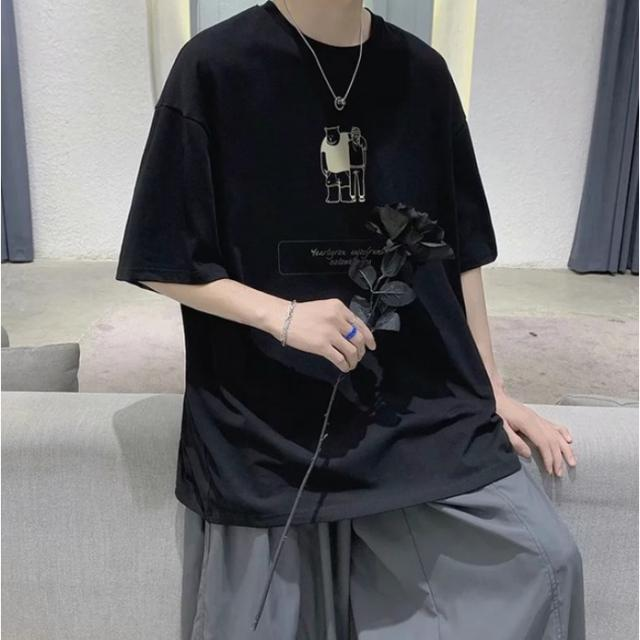Shirt: (111, 0, 532, 528)
